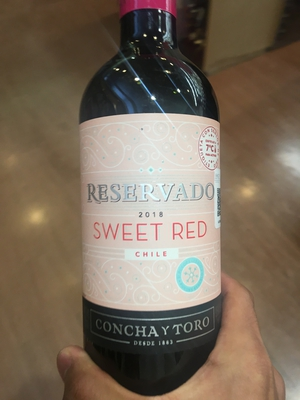reservado sweet red: (80, 15, 224, 358)
